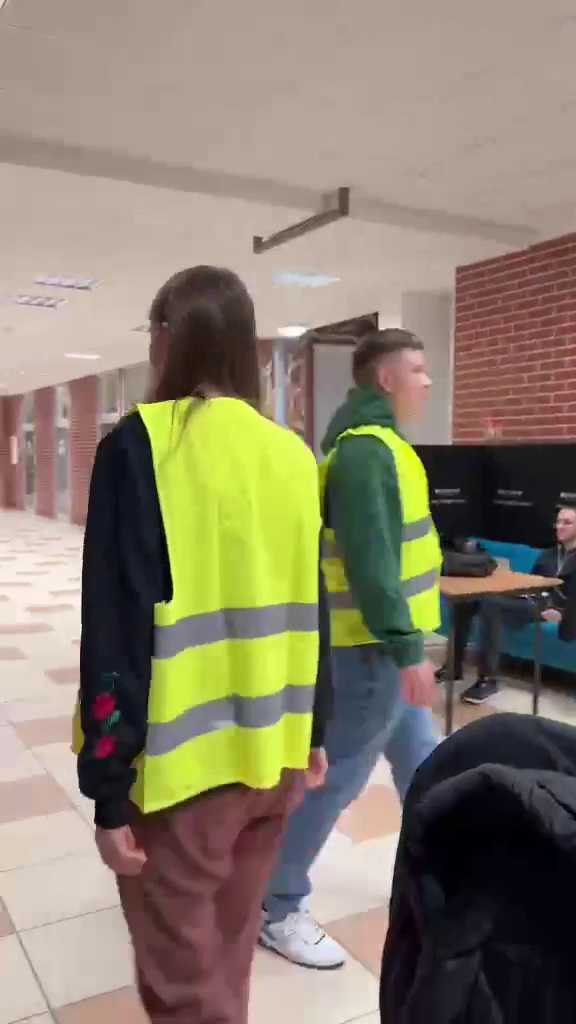vest: (85, 261, 322, 1024), (327, 328, 478, 964)
